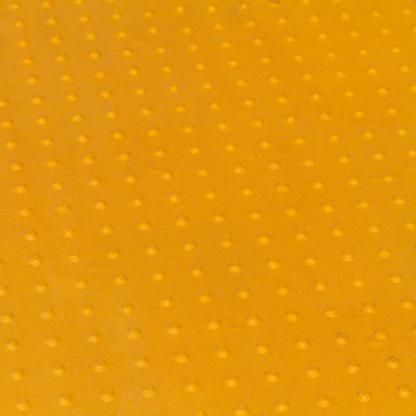podotacti: (3, 2, 412, 408)
